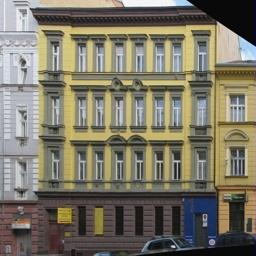building: (33, 0, 216, 245)
